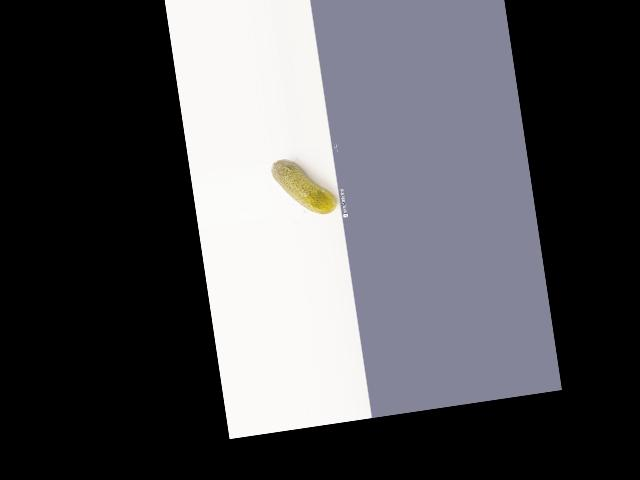cucumber: (270, 152, 338, 220)
